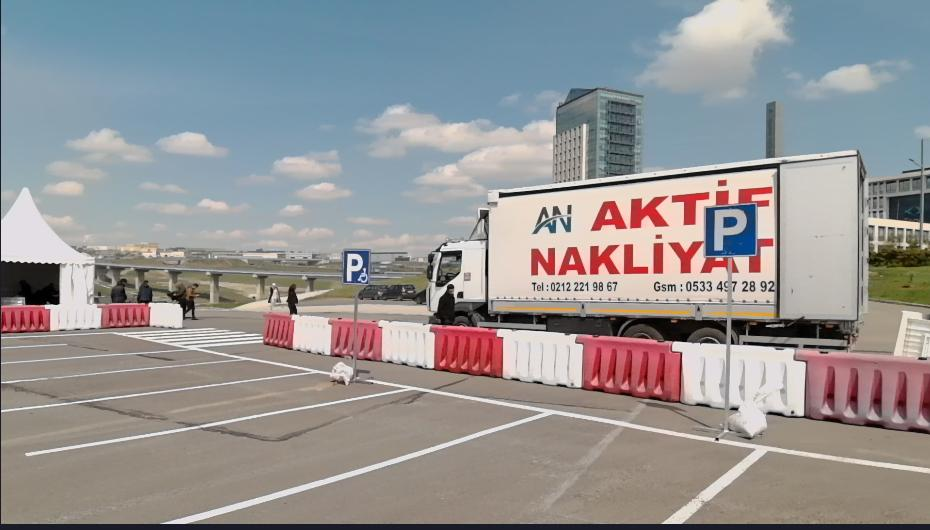nesne: (0, 367, 928, 524), (424, 147, 869, 349), (254, 309, 927, 434), (357, 374, 929, 472), (158, 412, 550, 528), (20, 388, 411, 459), (1, 371, 313, 408), (796, 349, 928, 432), (673, 344, 808, 418), (115, 333, 325, 375), (661, 451, 771, 525), (573, 332, 681, 401), (1, 301, 185, 334), (497, 325, 584, 389), (434, 324, 503, 378), (723, 379, 781, 440), (118, 326, 260, 349), (704, 204, 757, 258), (379, 321, 436, 369), (331, 317, 381, 361), (41, 302, 103, 331), (293, 314, 330, 354), (1, 304, 50, 334), (98, 302, 150, 328), (260, 311, 293, 346), (431, 282, 457, 323), (343, 246, 371, 284), (148, 303, 183, 327), (166, 279, 186, 315), (328, 360, 355, 384), (379, 283, 417, 298), (358, 283, 388, 299), (185, 282, 198, 318), (134, 276, 152, 301), (111, 277, 128, 303), (267, 282, 281, 311), (285, 282, 297, 313)
